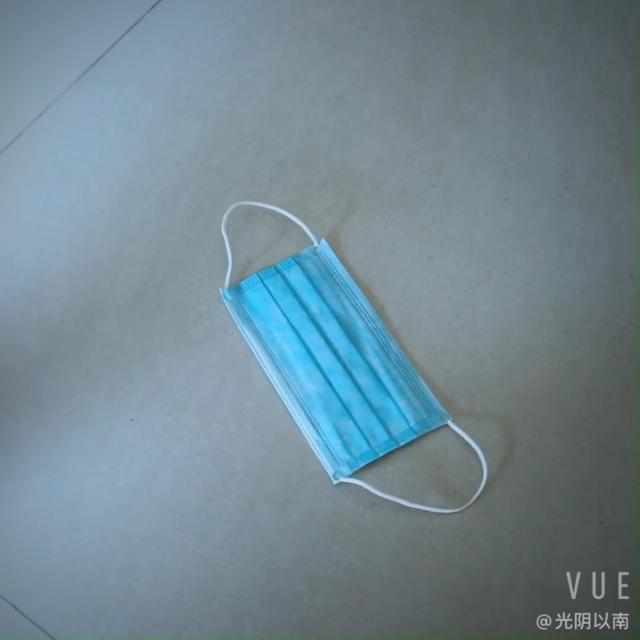non-organic waste: (200, 234, 453, 480)
